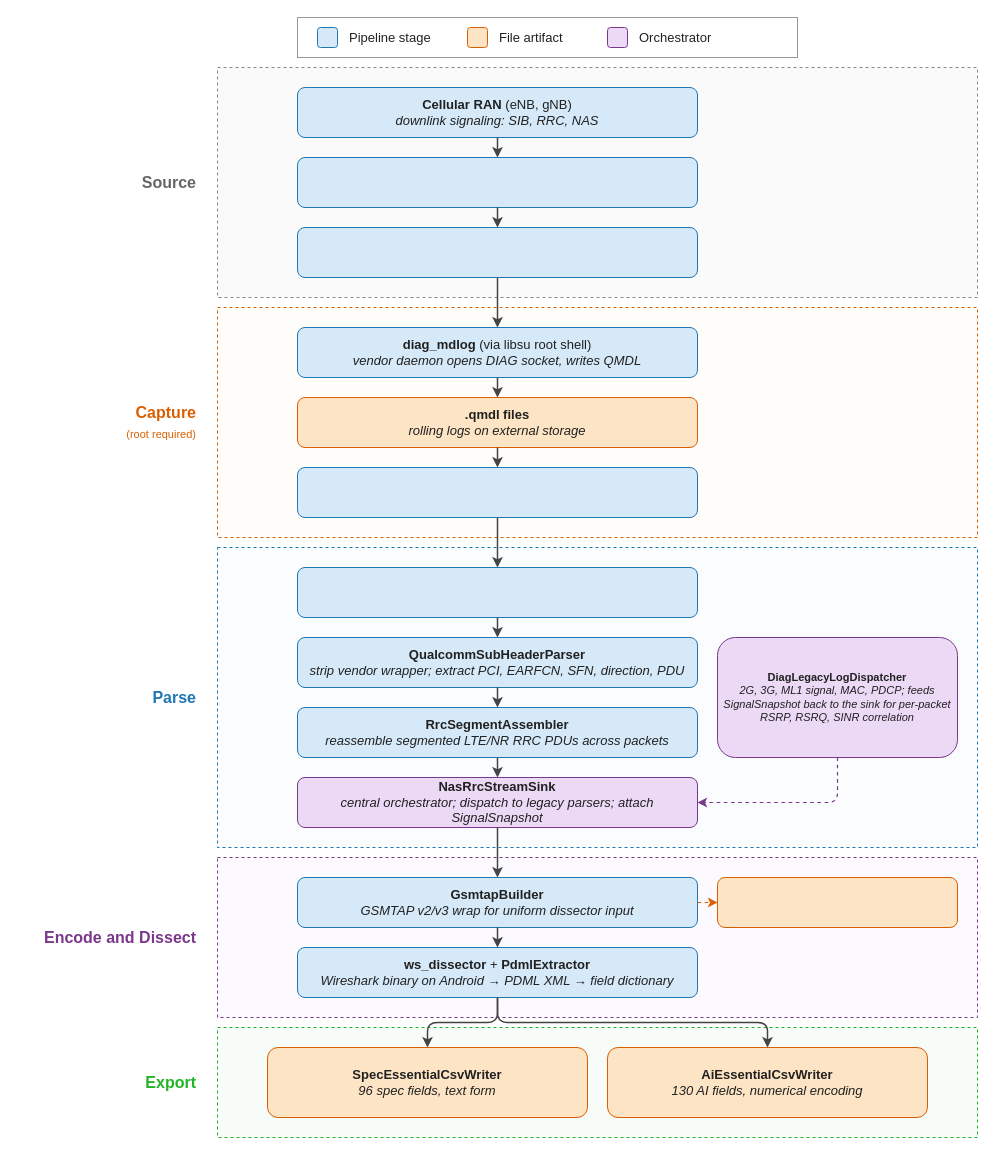
The diagram is 995 pixels wide and 1155 high, and some of its shapes have lost their labels. The centre of each missing label's shape, as x and y in pixels:
"DIAG Socket kernel interface, /dev/diag" belongs at point 497,252.
"DiagFrameParser HDLC de-stuffing, CRC-16 check, DIAG_LOG_F extraction" belongs at point 497,592.
"PcapWriter → .pcap libpcap file for offline Wireshark" belongs at point 837,902.
"Qualcomm Modem RF frontend and vendor DIAG driver" belongs at point 497,182.
"TailInputStream + FileObserver auto-discover new files, live byte stream" belongs at point 497,492.
